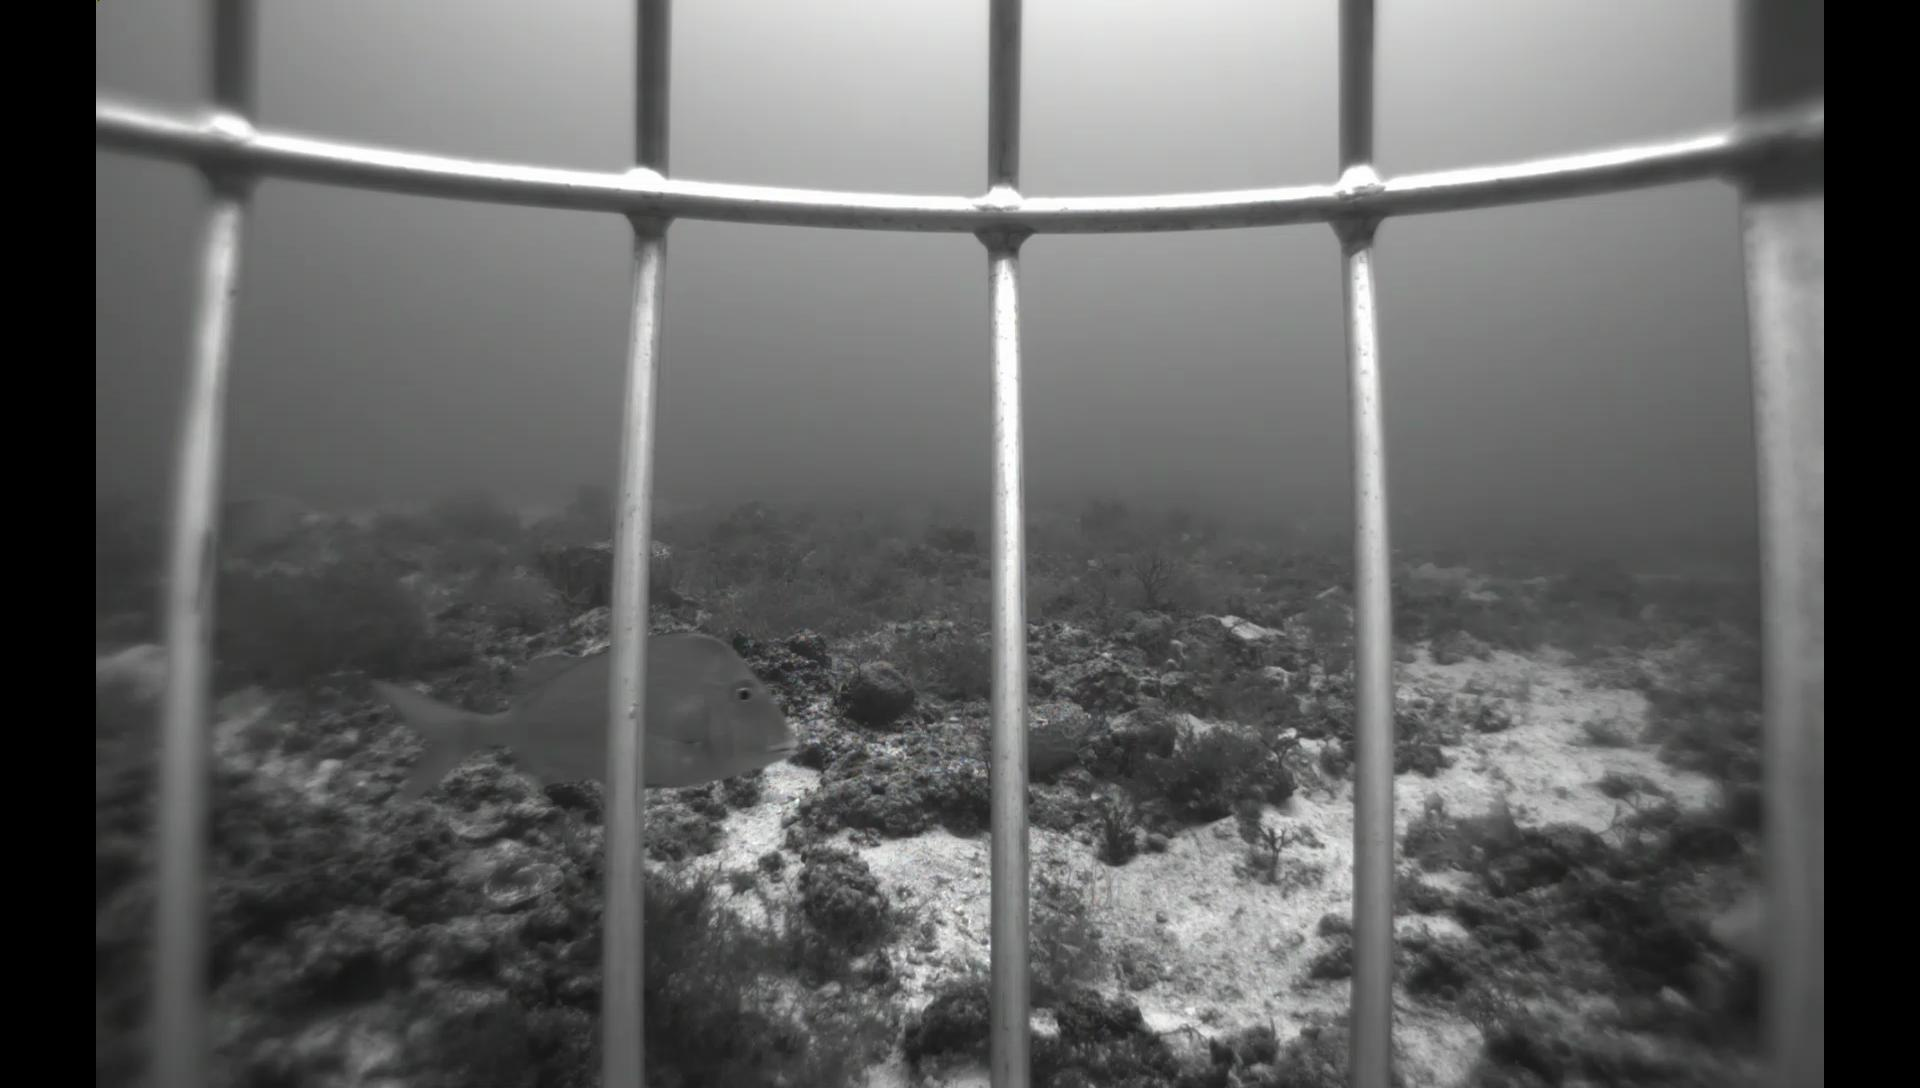CALAMUSNODOSUS-170210608: (360, 615, 811, 820)
HOLACANTHUSBERMUDENSIS-170290102: (1702, 869, 1778, 982), (224, 492, 324, 564)
MYCTEROPERCAPHENAX-170022105: (848, 509, 891, 554)
